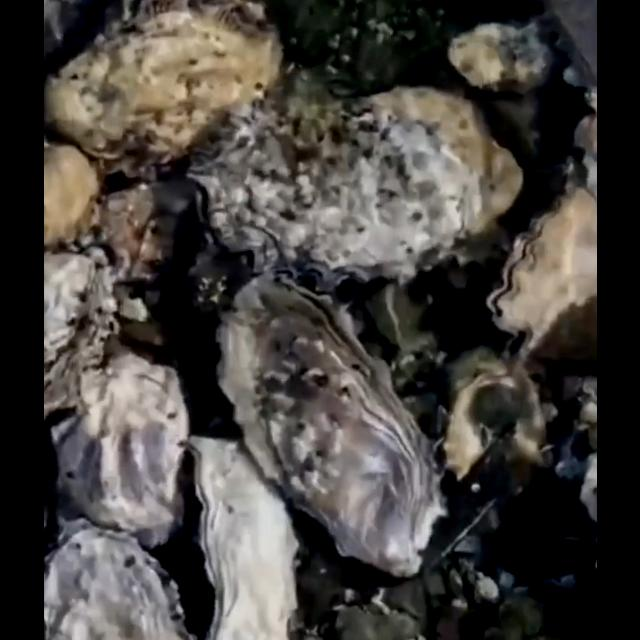Oyster-Closed: (43, 0, 284, 182), (46, 350, 190, 546), (183, 431, 301, 640), (42, 518, 192, 640), (43, 251, 117, 411), (446, 20, 552, 96), (44, 143, 98, 251)
Oyster-Open: (186, 84, 522, 296), (215, 270, 445, 576), (487, 188, 597, 362)
